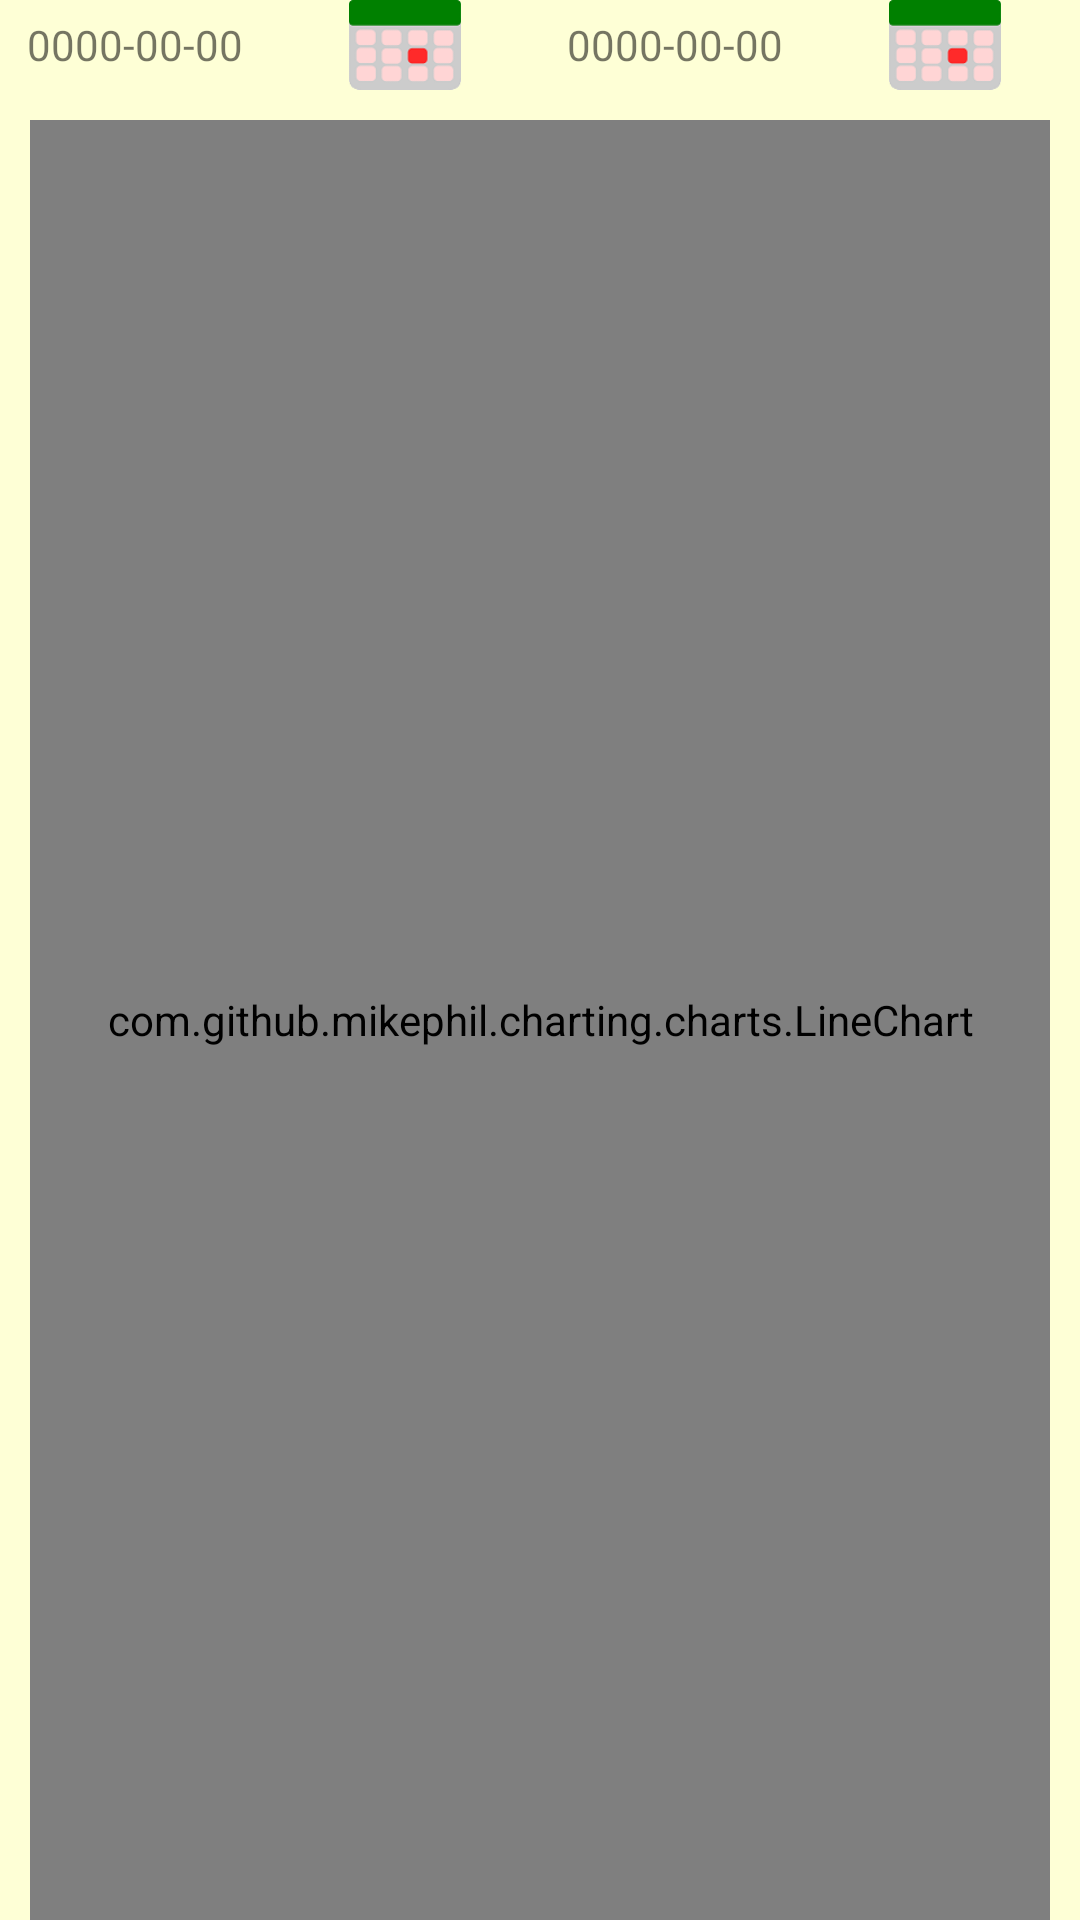

Screen size 1080×1920. Icon name, then its center in pixels as [x,y]:
calendar: [405,45], [945,45]
